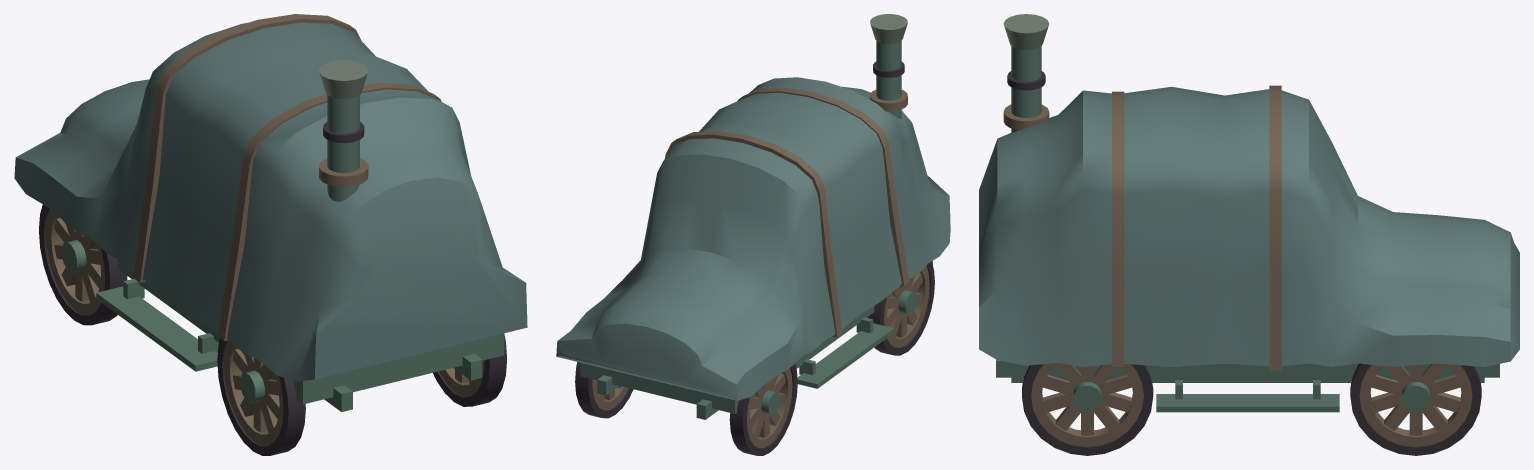
Rendered from prop_steam_car_tarp_v1.glb.
3 views of the same model, side by side, from view 1: azimuth 30°, elevation 25°; view 2: azimuth 150°, elevation 25°; view 3: azimuth 270°, elevation 25° (orthographic). The views are drawn at different scales.
Parts seen in each view (by area): view 1: SteamCarTarp; view 2: SteamCarTarp; view 3: SteamCarTarp.
Part boxes in pixels (<box>): SteamCarTarp: <box>14,14,527,455</box>; SteamCarTarp: <box>556,14,950,455</box>; SteamCarTarp: <box>979,14,1519,455</box>.
Size of what is drawn, in the model's own units: 1.8 by 2.6 by 3.54.
